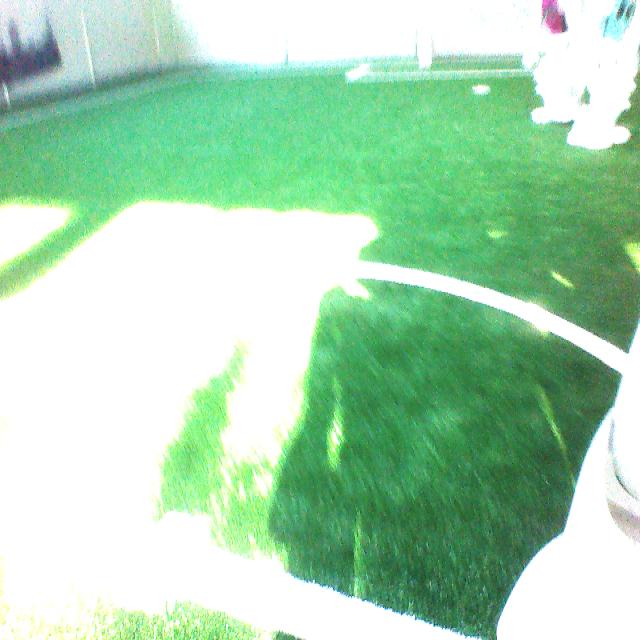goalpost: (413, 0, 432, 68)
